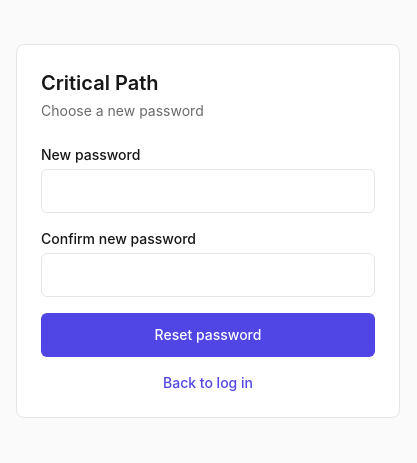
it: ResetPassword › reports a failed request away from both fields
Type "newpass12" into the password field labelled "New password" at point(208, 191), box [41, 169, 375, 213]
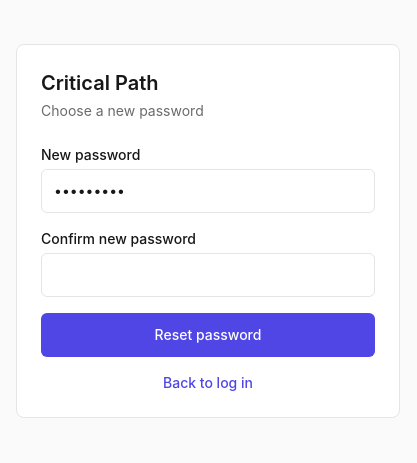
Type "newpass12" into the password field labelled "Confirm new password" at point(208, 275), box [41, 253, 375, 297]
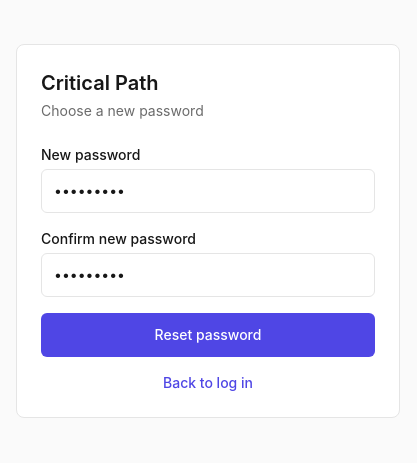
Click the button "Reset password" at point(208, 335), box [41, 313, 375, 357]
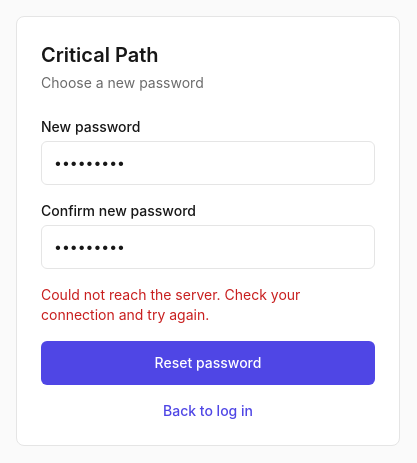
Now the message reads "Could not reach the server. Check your connection and try again.", box [41, 286, 300, 323]
